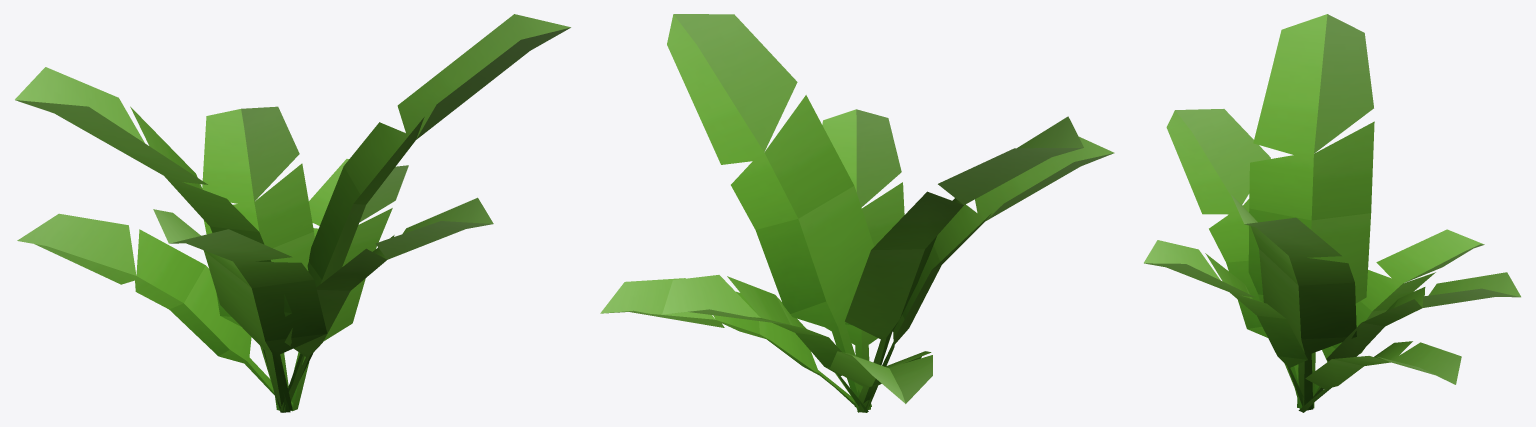
The model's file is SM_BigPlant_01.fbx.
3 renders of one model, left to right at view 1: azimuth 30°, elevation 25°; view 2: azimuth 150°, elevation 25°; view 3: azimuth 270°, elevation 25°, orthographic. The views are drawn at different scales.
Visible parts, largest first — view 1: SM_BigPlant_01; view 2: SM_BigPlant_01; view 3: SM_BigPlant_01.
Boxes of the visible parts, x1,y1,x2,y2 form: SM_BigPlant_01: [15, 14, 570, 412]; SM_BigPlant_01: [600, 14, 1114, 412]; SM_BigPlant_01: [1144, 14, 1520, 412].
Size of the model in its own units: 5.01 by 3.48 by 4.01.
